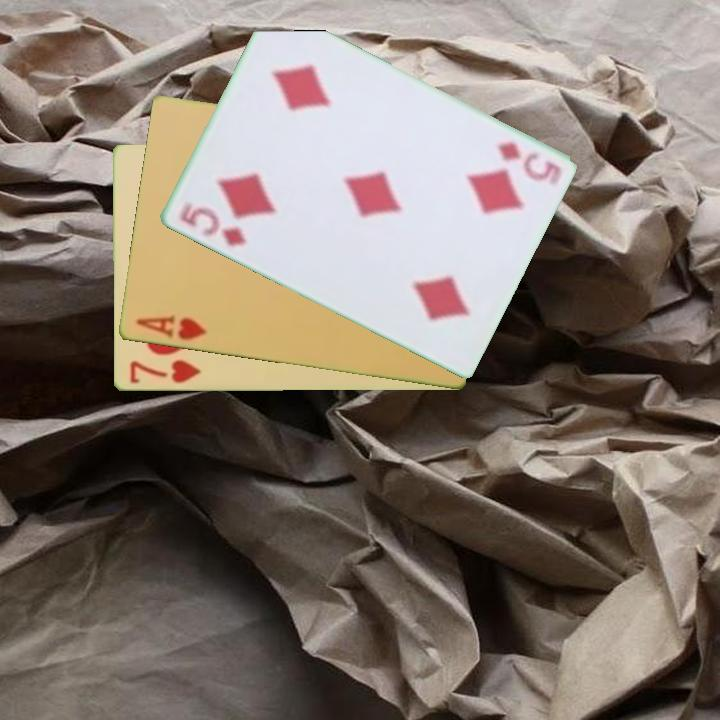5d: (175, 199, 250, 250), (492, 138, 564, 189)
7h: (126, 357, 204, 387)
Ah: (132, 311, 210, 344)
